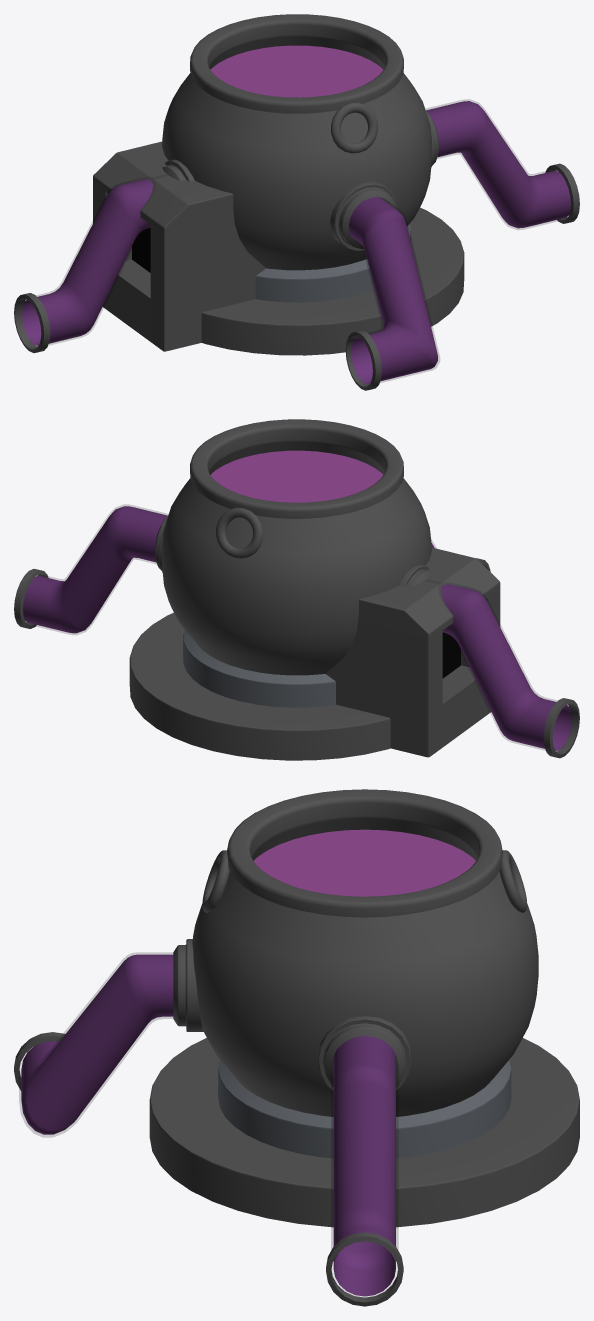
File: Chaudron.fbx
3 renders of one model, top to bottom at view 1: azimuth 30°, elevation 25°; view 2: azimuth 150°, elevation 25°; view 3: azimuth 270°, elevation 25°, orthographic. The views are drawn at different scales.
Visible parts, largest first — view 1: _Machine_Chaudron, In_Solid, In_Liquid_T, In_Liquid_S, Out_Liquid; view 2: _Machine_Chaudron, In_Solid, In_Liquid_S, Out_Liquid; view 3: _Machine_Chaudron, Out_Liquid, In_Liquid_T.
Part boxes in pixels (box(x1,y1,x2,y2)): _Machine_Chaudron: box(162, 14, 464, 355); In_Solid: box(93, 141, 265, 351); In_Liquid_T: box(330, 182, 439, 390); In_Liquid_S: box(14, 159, 194, 352); Out_Liquid: box(425, 99, 579, 229); _Machine_Chaudron: box(129, 419, 431, 760); In_Solid: box(325, 547, 500, 757); In_Liquid_S: box(399, 564, 579, 758); Out_Liquid: box(14, 505, 168, 634); _Machine_Chaudron: box(149, 789, 579, 1227); Out_Liquid: box(318, 1016, 411, 1306); In_Liquid_T: box(14, 939, 203, 1136).
Size of the model in its own units: 5.11 by 2.07 by 3.63.
